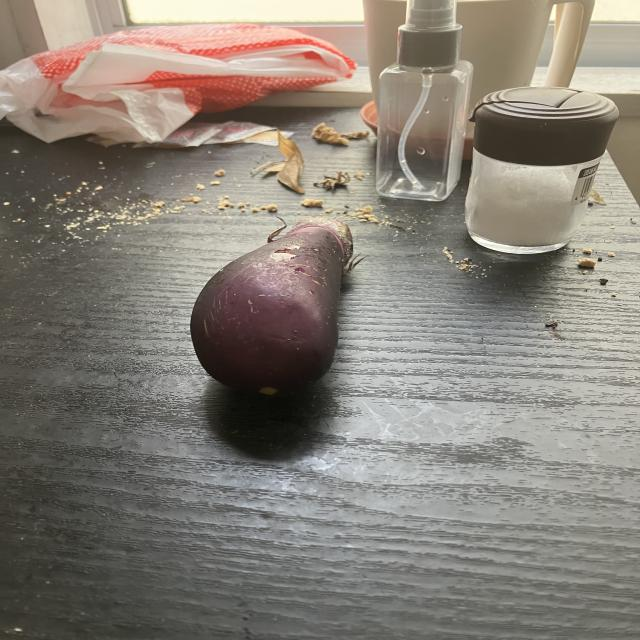eggplant: (188, 212, 370, 401)
